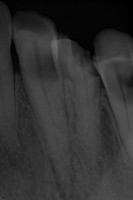Furcation Involvement: (4, 144, 26, 176)
